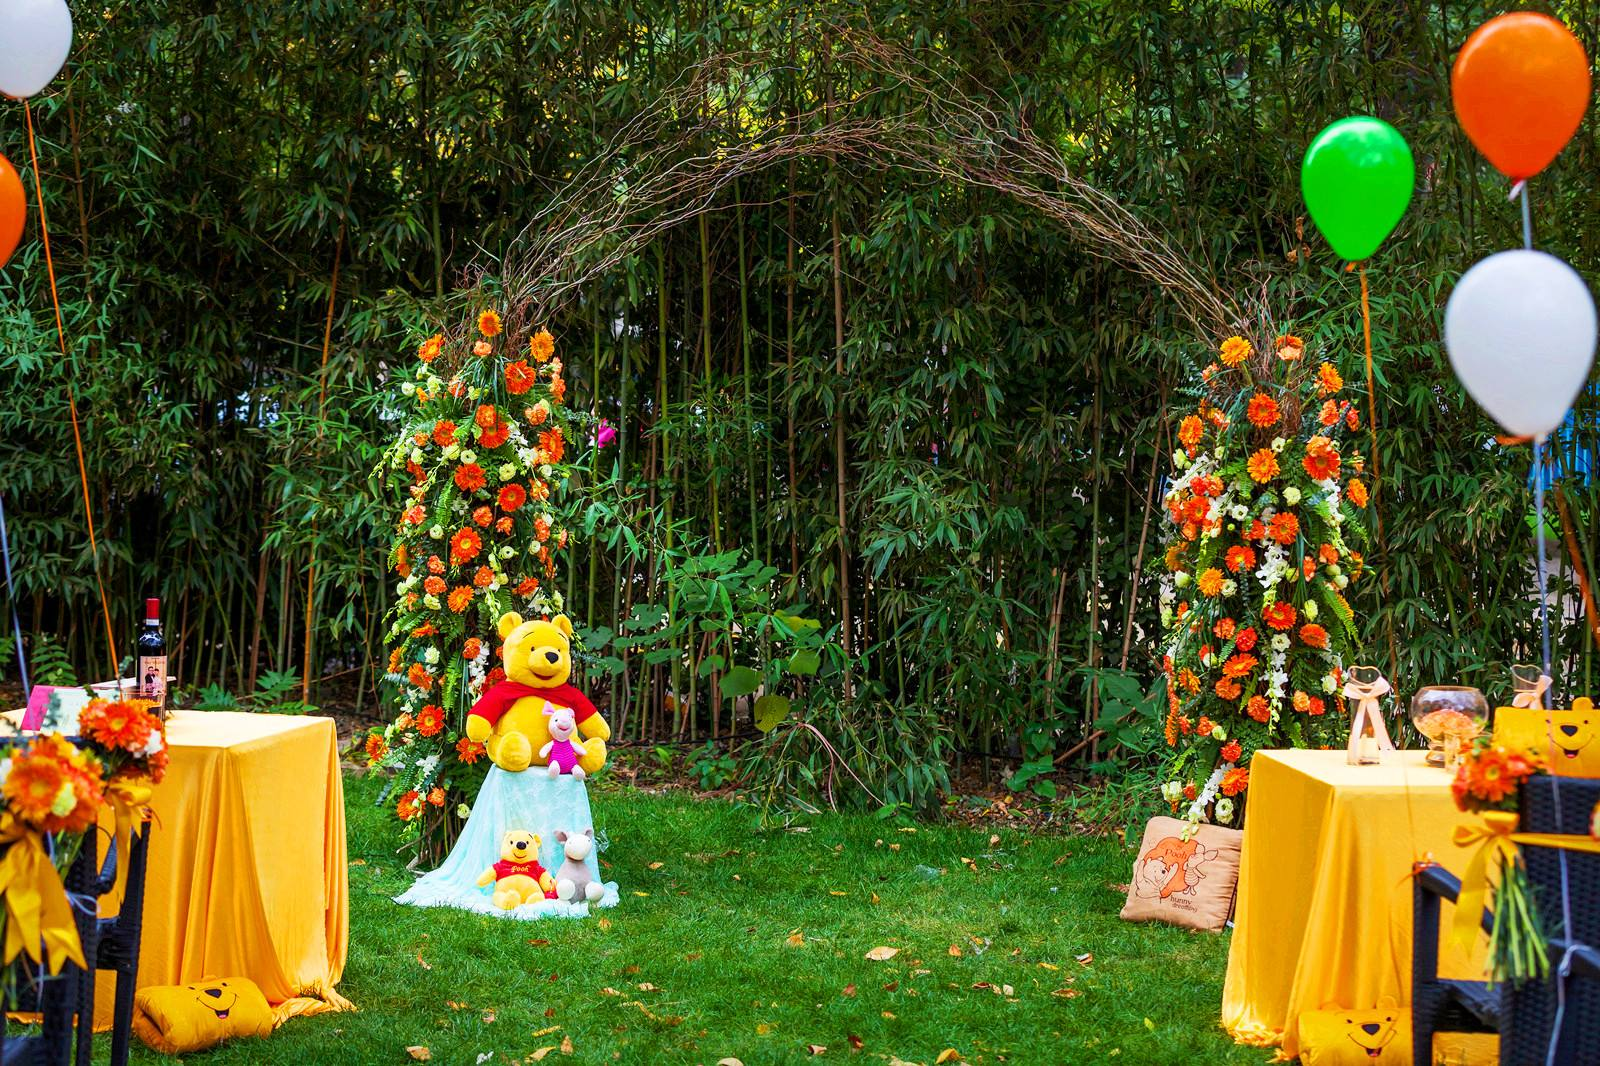fall: (409, 600, 636, 928)
